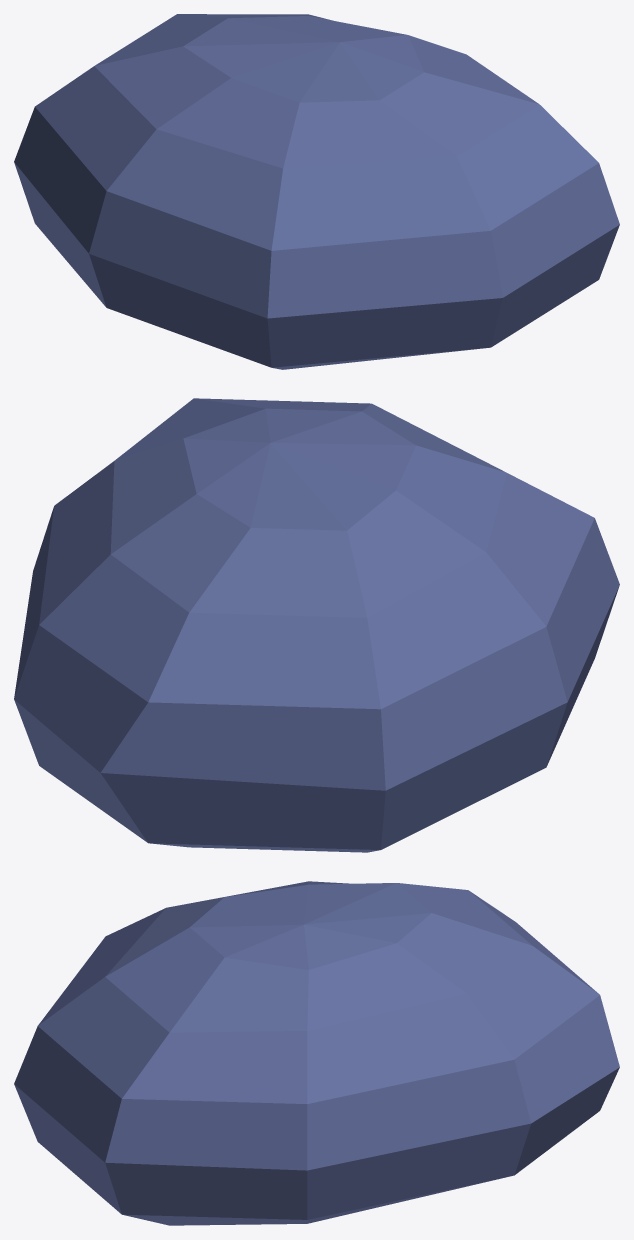
The model's file is Boulder_01.fbx.
3 renders of one model, top to bottom at view 1: azimuth 30°, elevation 25°; view 2: azimuth 150°, elevation 25°; view 3: azimuth 270°, elevation 25°, orthographic. The views are drawn at different scales.
Visible parts, largest first — view 1: Boulder; view 2: Boulder; view 3: Boulder.
Part boxes in pixels (x1,y1,x2,y2): Boulder: (14,14,619,369); Boulder: (14,398,619,852); Boulder: (14,881,619,1225).
Size of the model in its own units: 154 by 86.65 by 183.
